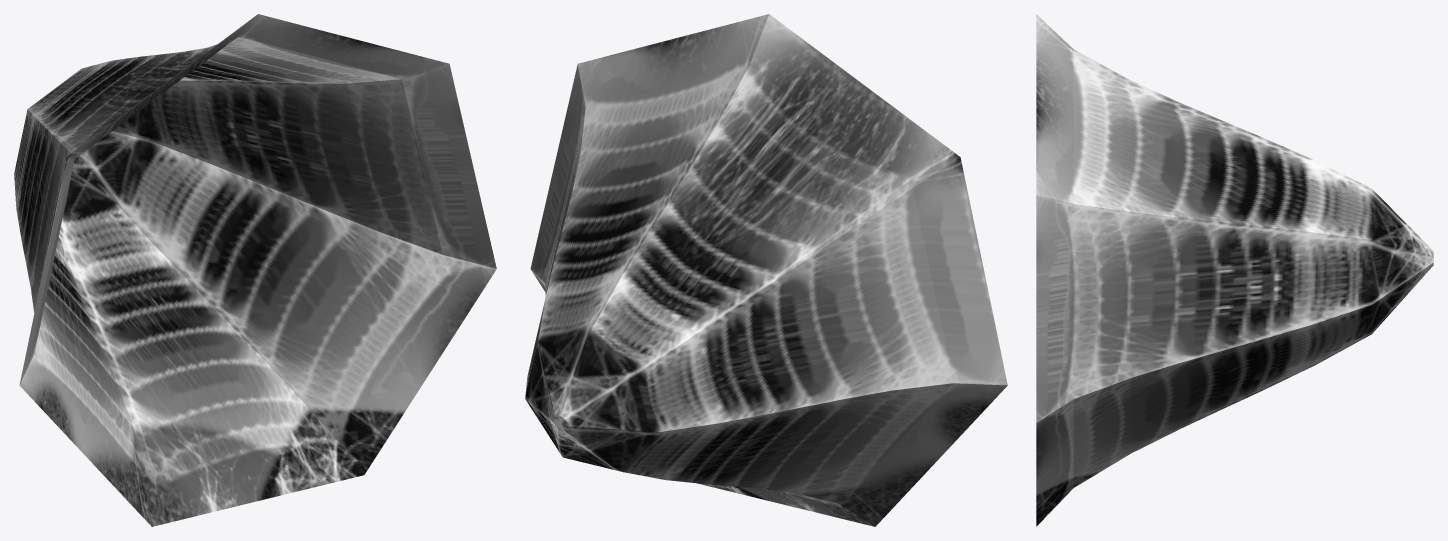
Rendered from Cobweb 03.fbx.
The picture shows the model from 3 angles, left to right: view 1: azimuth 30°, elevation 25°; view 2: azimuth 150°, elevation 25°; view 3: azimuth 270°, elevation 25°; orthographic projection. The views are drawn at different scales.
Parts seen in each view (by area): view 1: Cylinder; view 2: Cylinder; view 3: Cylinder.
Part boxes in pixels (box(x1,y1,x2,y2)): Cylinder: box(14, 14, 496, 526); Cylinder: box(525, 14, 1007, 526); Cylinder: box(1036, 14, 1433, 526).
Size of the model in its own units: 201 by 196 by 152.
